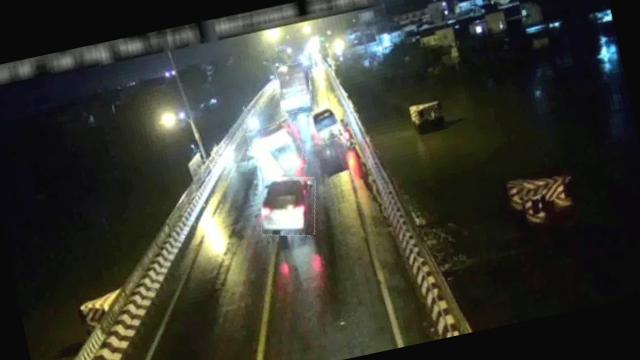Bike: (336, 116, 356, 148)
Car: (253, 168, 324, 242), (246, 119, 307, 180), (308, 103, 346, 144)
Truck: (273, 60, 315, 115)
